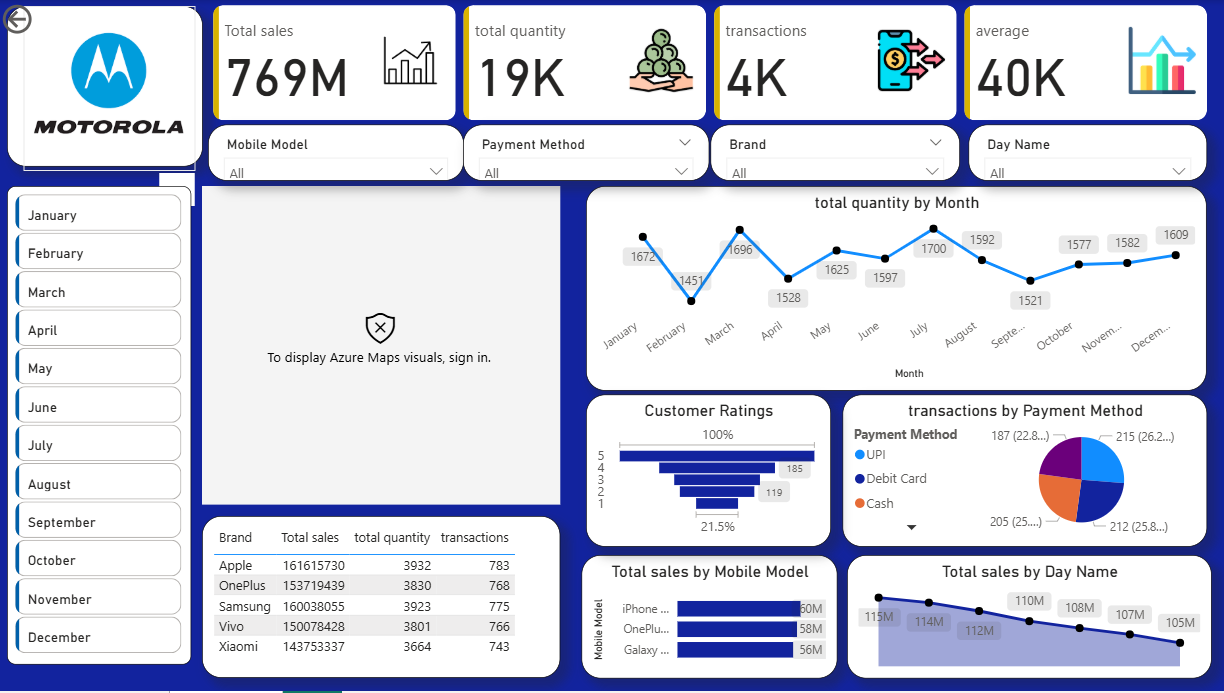

The page's visual inventory and layout, read from the dashboard file:
{"tool":"powerbi","page":{"name":"Page 1","canvas":[1280,720],"ordinal":0},"visuals":[{"type":"shape","box":[9.6,5.8,203.8,167.3],"z":0},{"type":"image","box":[26.9,5.8,178.8,173.1],"z":1000},{"type":"advancedSlicerVisual","fields":{"Values":["Sales data.Date.Variation.Date Hierarchy.Month"]},"box":[10,193.3,191.7,498.3],"z":2000},{"type":"cardVisual","fields":{"Data":["Sales data.Total sales","Sales data.total quantity","Sales data.transactions","Sales data.average"]},"box":[218.3,0,1046.7,130],"z":3000},{"type":"azureMap","fields":{"Category":["Sales data.City"],"Size":["Sales data.Total sales"]},"box":[213.3,193.3,373.3,331.7],"z":4000},{"type":"lineChart","fields":{"Y":["Sales data.total quantity"],"Category":["Sales data.Date.Variation.Date Hierarchy.Month","Sales data.Date.Variation.Date Hierarchy.Day"]},"box":[613.3,193.3,646.7,213.3],"z":5000},{"type":"clusteredBarChart","fields":{"Category":["Sales data.Mobile Model"],"Y":["Sales data.Total sales"]},"box":[608.3,578.3,266.7,128.3],"z":6000},{"type":"pieChart","fields":{"Category":["Sales data.Payment Method"],"Y":["Sales data.transactions"]},"box":[880,411.7,380,158.3],"z":7000},{"type":"funnel","title":"Customer Ratings","fields":{"Category":["Sales data.Customer Ratings"],"Y":["CountNonNull(Sales data.Customer Ratings)"]},"box":[613.3,411.7,255,158.3],"z":8000},{"type":"areaChart","fields":{"Category":["Sales data.Day Name"],"Y":["Sales data.Total sales"]},"box":[885,578.3,380,128.3],"z":9000},{"type":"tableEx","fields":{"Values":["Sales data.Brand","Sales data.Total sales","Sales data.total quantity","Sales data.transactions"]},"box":[213.3,538.3,373.3,168.3],"z":10000},{"type":"actionButton","box":[0,0,100,40],"z":11000},{"type":"slicer","fields":{"Values":["Sales data.Mobile Model"]},"box":[218.3,130,266.7,58.3],"z":12000},{"type":"slicer","fields":{"Values":["Sales data.Payment Method"]},"box":[485,130,256.7,58.3],"z":13000},{"type":"slicer","fields":{"Values":["Sales data.Brand"]},"box":[741.7,130,260,58.3],"z":14000},{"type":"slicer","fields":{"Values":["Sales data.Day Name"]},"box":[1011.7,130,248.3,58.3],"z":15000}]}

Visuals, with their boxes in screenshot pixels (x1, y1, x2, y2), scaled from the page's 1280x720 canvas onto the 1224x693 screenshot:
shape: (x1=9, y1=6, x2=204, y2=167)
image: (x1=26, y1=6, x2=197, y2=172)
advancedSlicerVisual - Sales data.Date.Variation.Date Hierarchy.Month: (x1=10, y1=186, x2=193, y2=666)
cardVisual - Sales data.Total sales x Sales data.total quantity: (x1=209, y1=0, x2=1210, y2=125)
azureMap - Sales data.City x Sales data.Total sales: (x1=204, y1=186, x2=561, y2=505)
lineChart - Sales data.total quantity x Sales data.Date.Variation.Date Hierarchy.Month: (x1=586, y1=186, x2=1205, y2=391)
clusteredBarChart - Sales data.Mobile Model x Sales data.Total sales: (x1=582, y1=557, x2=837, y2=680)
pieChart - Sales data.Payment Method x Sales data.transactions: (x1=842, y1=396, x2=1205, y2=549)
"Customer Ratings" funnel: (x1=586, y1=396, x2=830, y2=549)
areaChart - Sales data.Day Name x Sales data.Total sales: (x1=846, y1=557, x2=1210, y2=680)
tableEx - Sales data.Brand x Sales data.Total sales: (x1=204, y1=518, x2=561, y2=680)
actionButton: (x1=0, y1=0, x2=96, y2=38)
slicer - Sales data.Mobile Model: (x1=209, y1=125, x2=464, y2=181)
slicer - Sales data.Payment Method: (x1=464, y1=125, x2=709, y2=181)
slicer - Sales data.Brand: (x1=709, y1=125, x2=958, y2=181)
slicer - Sales data.Day Name: (x1=967, y1=125, x2=1205, y2=181)
